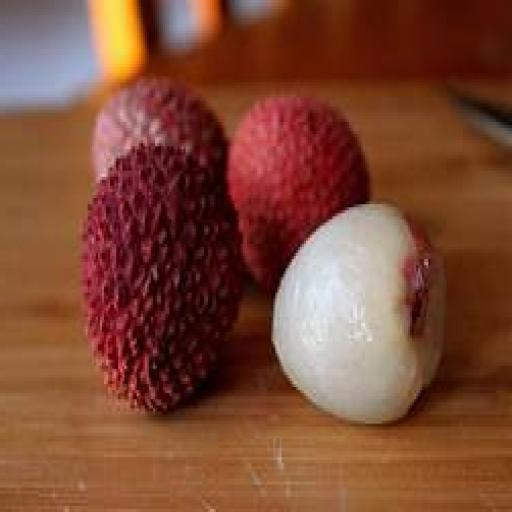lychee: (81, 147, 241, 411), (273, 205, 443, 423), (228, 95, 368, 292), (91, 77, 225, 179)
